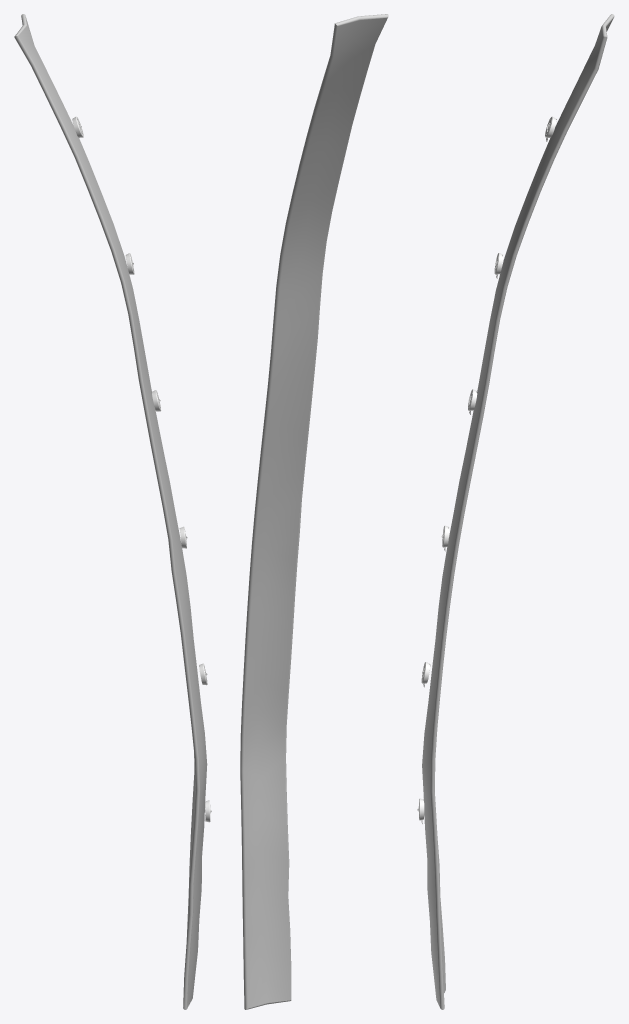
The model's file is French_Placket.glb.
3 views of the same model, side by side, from view 1: azimuth 90°, elevation 25°; view 2: azimuth 210°, elevation 25°; view 3: azimuth 270°, elevation 25° (orthographic). The views are drawn at different scales.
Parts seen in each view (by area): view 1: Front_Placket_Node001; view 2: Front_Placket_Node001; view 3: Front_Placket_Node001.
Part boxes in pixels (bbox=[...]): Front_Placket_Node001: bbox=[14, 14, 207, 1009]; Front_Placket_Node001: bbox=[240, 14, 388, 1009]; Front_Placket_Node001: bbox=[422, 14, 614, 1009].
Bounding box in the file's own units: 3.18 × 61.87 × 11.34.
4 materials, 1 textured.
